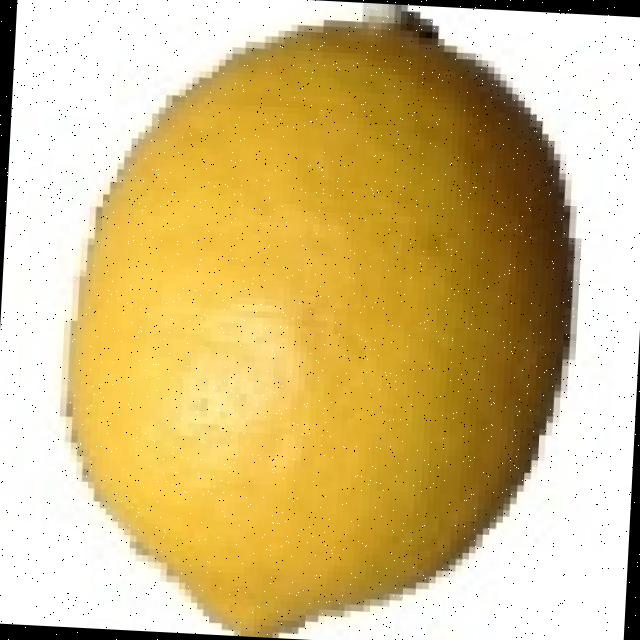lemon: (71, 14, 570, 638)
